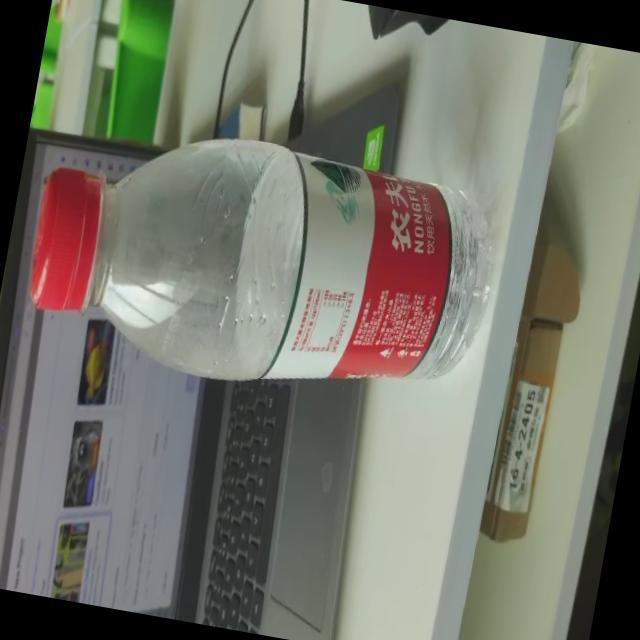good: (7, 98, 527, 425)
